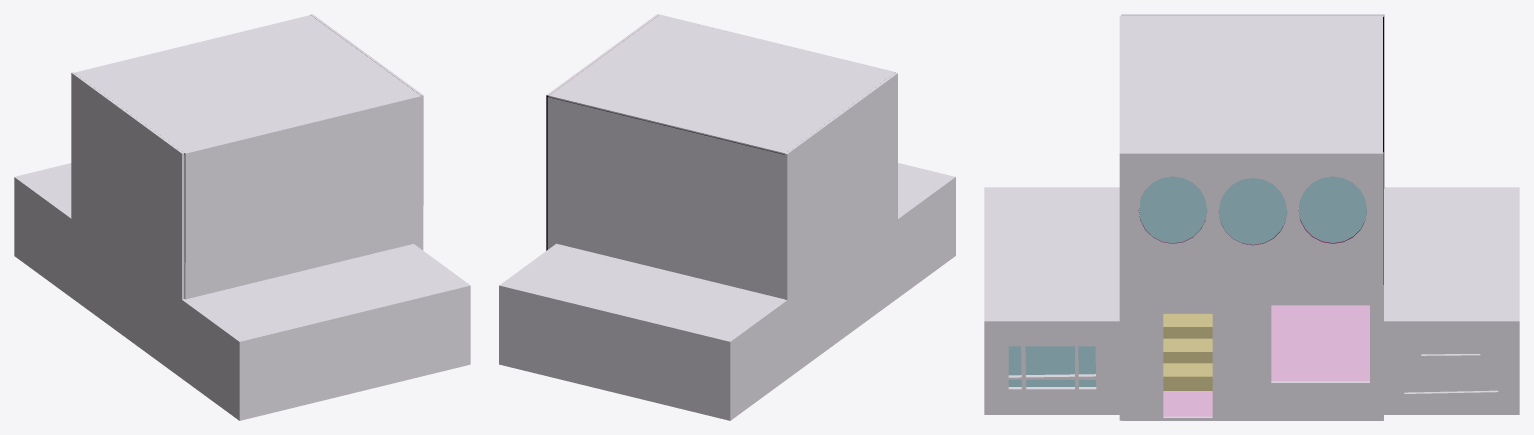
File: casa.obj
3 views of the same model, side by side, from view 1: azimuth 30°, elevation 25°; view 2: azimuth 150°, elevation 25°; view 3: azimuth 270°, elevation 25° (orthographic). The views are drawn at different scales.
Visible parts, largest first — view 1: polySurface14 group46_pasted__group6_pasted__pasted__pCylinder1; view 2: polySurface14 group46_pasted__group6_pasted__pasted__pCylinder1; view 3: polySurface14 group46_pasted__group6_pasted__pasted__pCylinder1.
Boxes of the visible parts, x1,y1,x2,y2 form: polySurface14 group46_pasted__group6_pasted__pasted__pCylinder1: (14, 14, 470, 420); polySurface14 group46_pasted__group6_pasted__pasted__pCylinder1: (499, 14, 955, 420); polySurface14 group46_pasted__group6_pasted__pasted__pCylinder1: (984, 14, 1519, 420).
Size of the model in its own units: 29.1 by 26 by 47.11.
